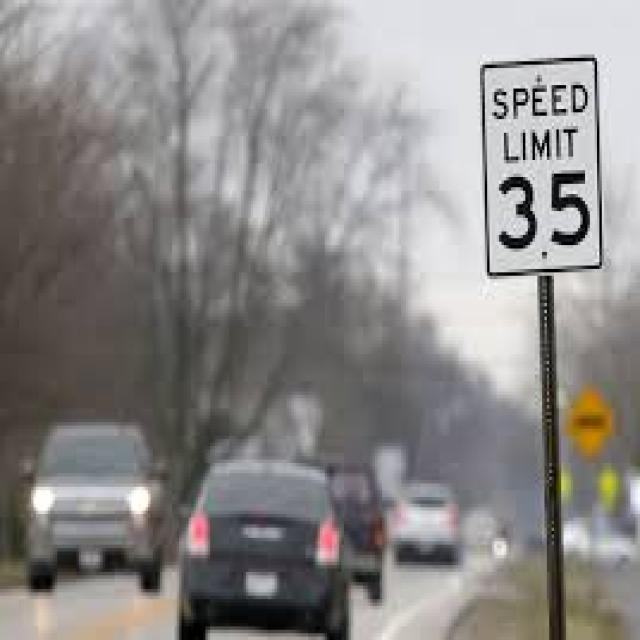speedLimit35: (478, 59, 606, 279)
